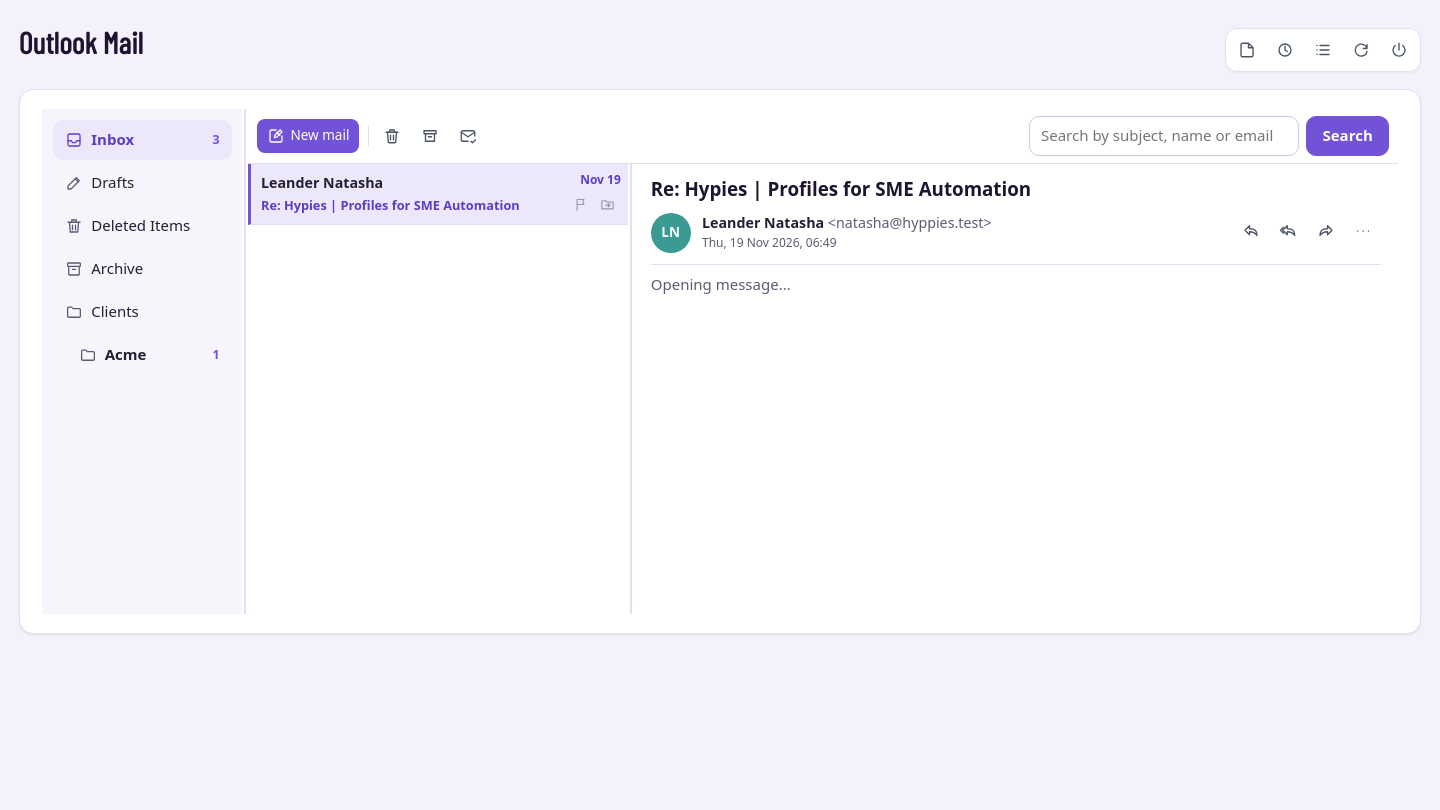
Scenario: Outlook Mail reads like Outlook › shows who it is from and to, and the message in its own formatting with its pictures
Click the button "Leander Natasha Re: Hypies | Profiles for SME Automation" at (410, 194), box [251,164,569,224]
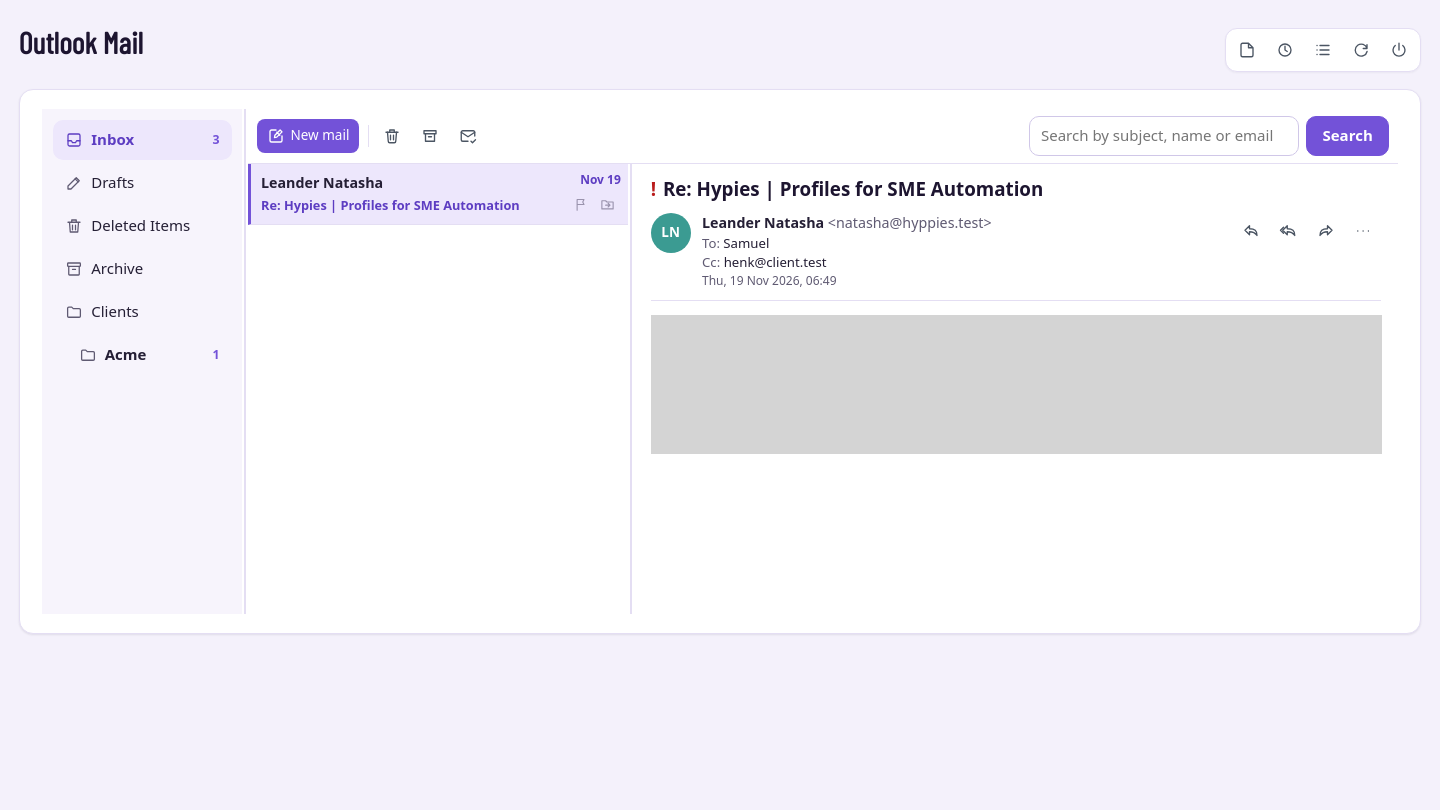
Check: the text "Samuel" is shown, box [723,234,769,252]
Check: the text "henk@client.test" is shown, box [724,253,826,271]
Check: the text named "High importance" is shown, box [651,176,656,201]
